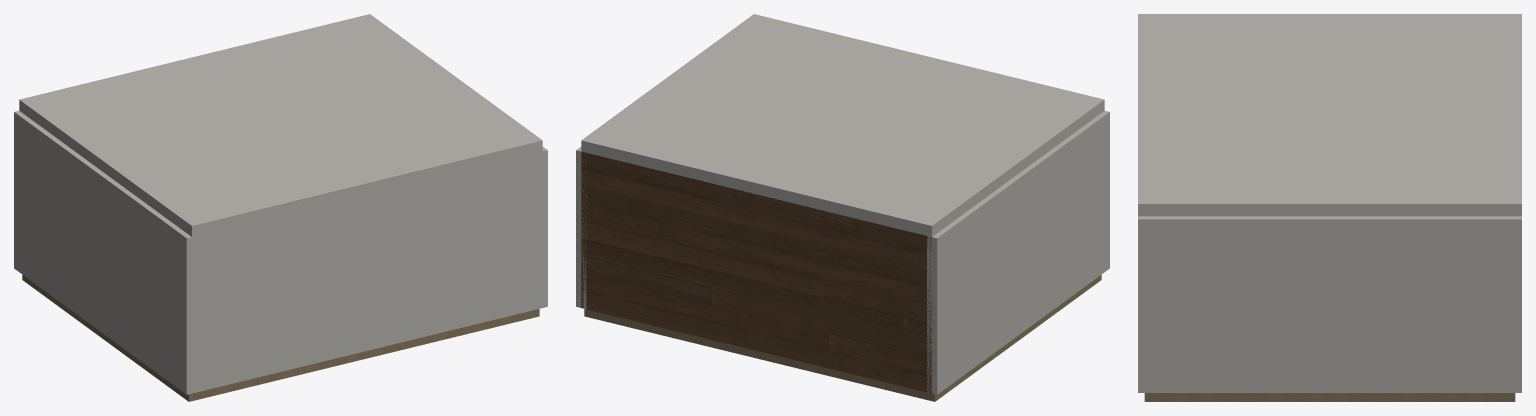
File: living_room.glb
The picture shows the model from 3 angles, left to right: view 1: azimuth 30°, elevation 25°; view 2: azimuth 150°, elevation 25°; view 3: azimuth 270°, elevation 25°; orthographic projection. The views are drawn at different scales.
Visible parts, largest first — view 1: Room architecture; view 2: Room architecture; view 3: Room architecture.
Part boxes in pixels (x1=…): Room architecture: x1=14, y1=14, x2=547, y2=401; Room architecture: x1=576, y1=14, x2=1109, y2=401; Room architecture: x1=1138, y1=14, x2=1521, y2=401.
Size of the model in its own units: 7 by 3.3 by 5.8.
28 materials, 17 textured.
